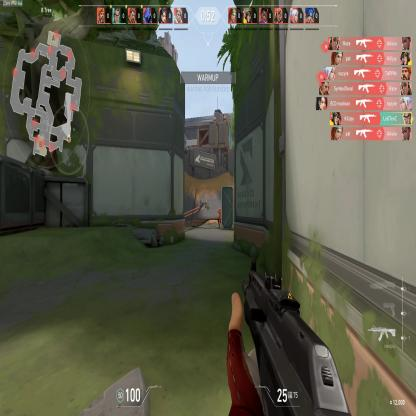enemy: (217, 206, 221, 228)
